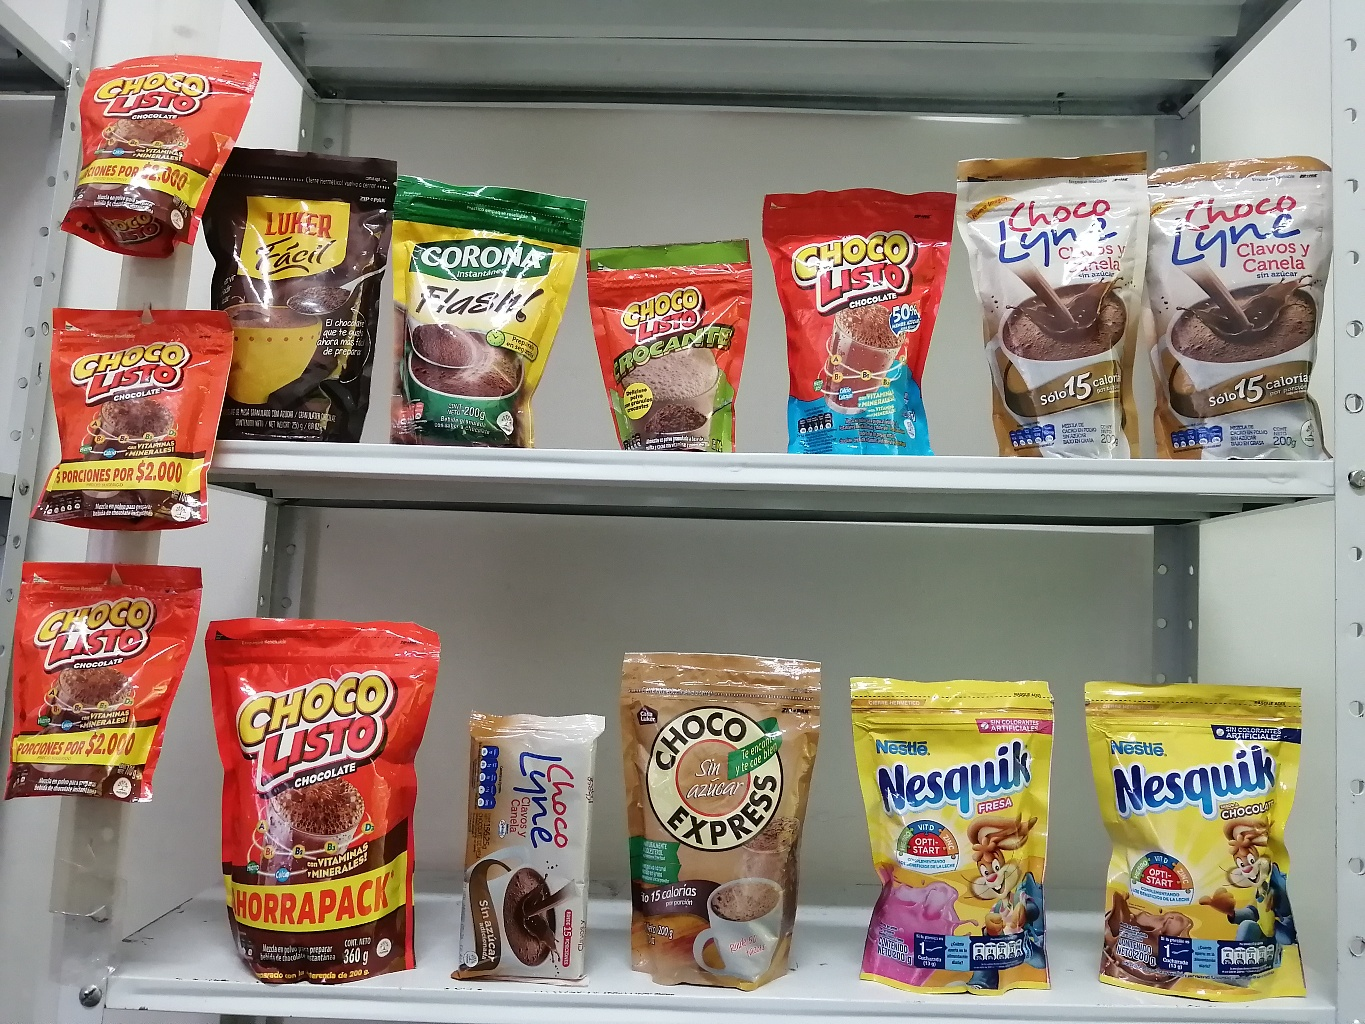COL0170102DYP10000: (578, 229, 753, 460)
COL0170103DYP36000: (171, 594, 477, 1002)
COL0170104DYP20000: (747, 166, 968, 460)
COL0170303DYP20000: (1060, 662, 1332, 1013)
COL0170305DYP20000: (836, 655, 1085, 1001)
